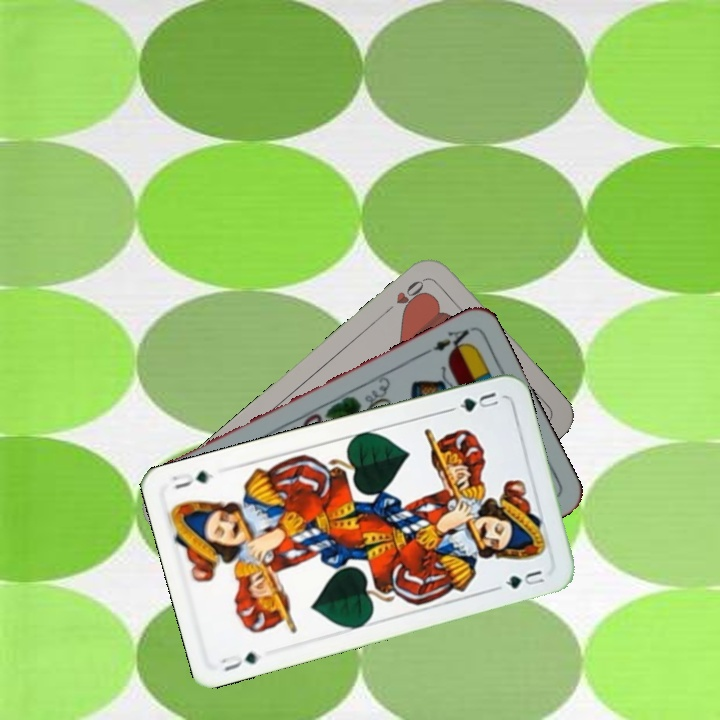EA: (418, 325, 473, 358)
GU: (217, 647, 264, 674), (455, 388, 501, 415)
HO: (380, 273, 430, 317)
